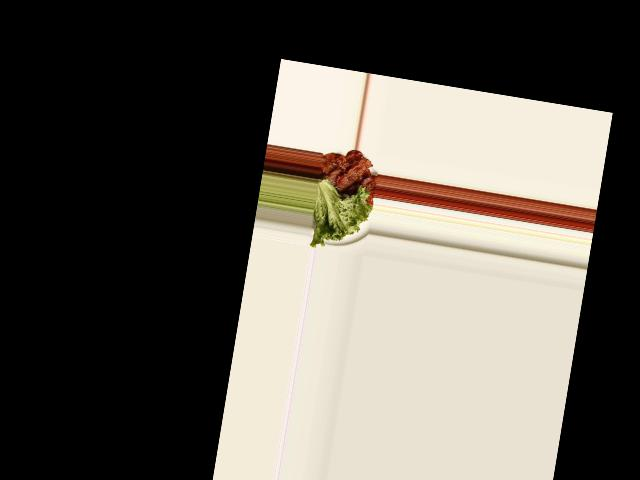lettuce: (307, 178, 374, 252)
